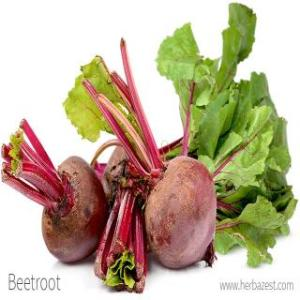beet: (150, 153, 216, 271), (38, 155, 106, 265)
